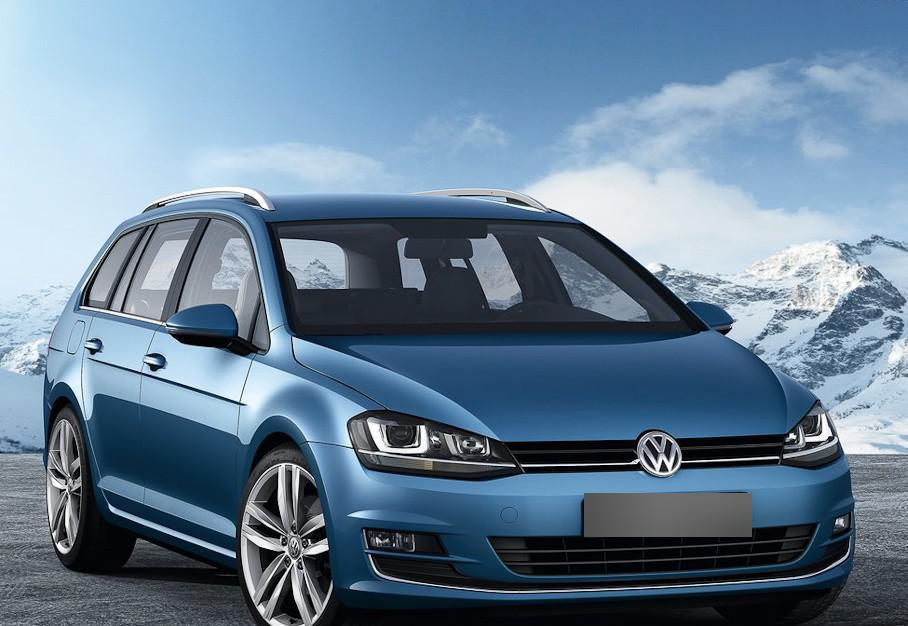Wagon: (44, 185, 854, 626)
